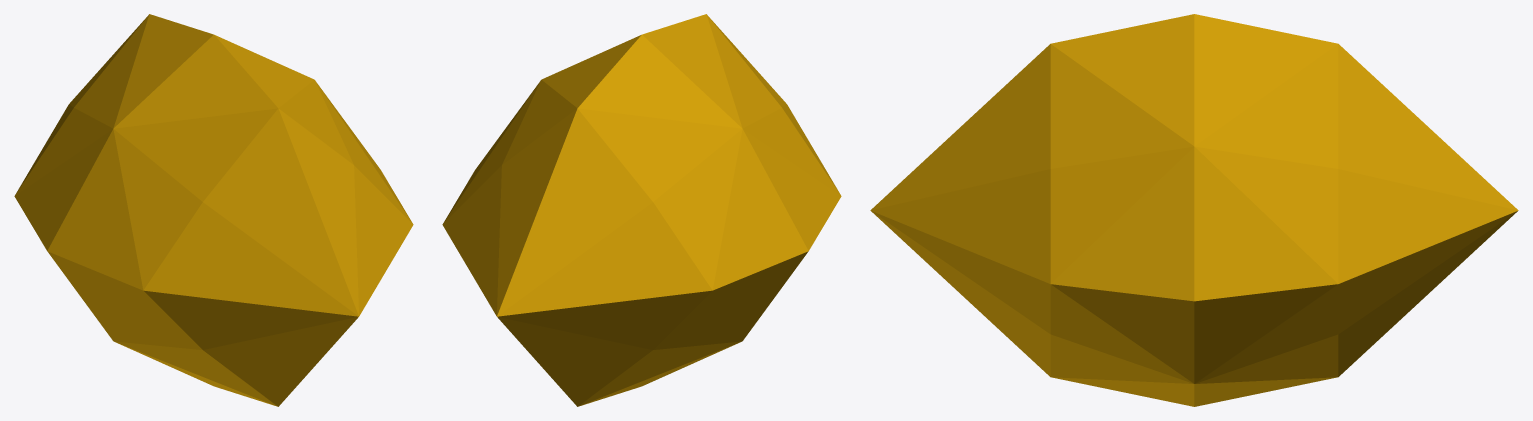
Rendered from CrystalYellow.obj.
The picture shows the model from 3 angles, left to right: view 1: azimuth 30°, elevation 25°; view 2: azimuth 150°, elevation 25°; view 3: azimuth 270°, elevation 25°; orthographic projection. The views are drawn at different scales.
Parts seen in each view (by area): view 1: CrystalYellow; view 2: CrystalYellow; view 3: CrystalYellow.
Part boxes in pixels (left/top/right/bottom): CrystalYellow: left=14, top=14, right=413, bottom=406; CrystalYellow: left=442, top=14, right=841, bottom=406; CrystalYellow: left=870, top=14, right=1518, bottom=406.
Size of the model in its own units: 0.8962 by 0.9034 by 1.35.
